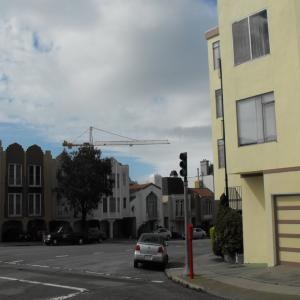Vehicle-registration-plate: (146, 255, 154, 261)
